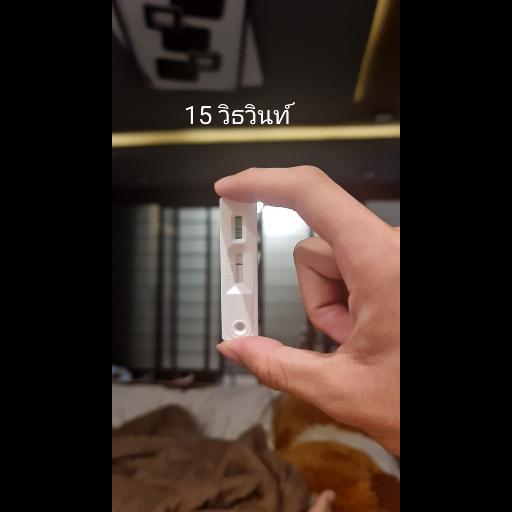Neg: (219, 197, 257, 339)
